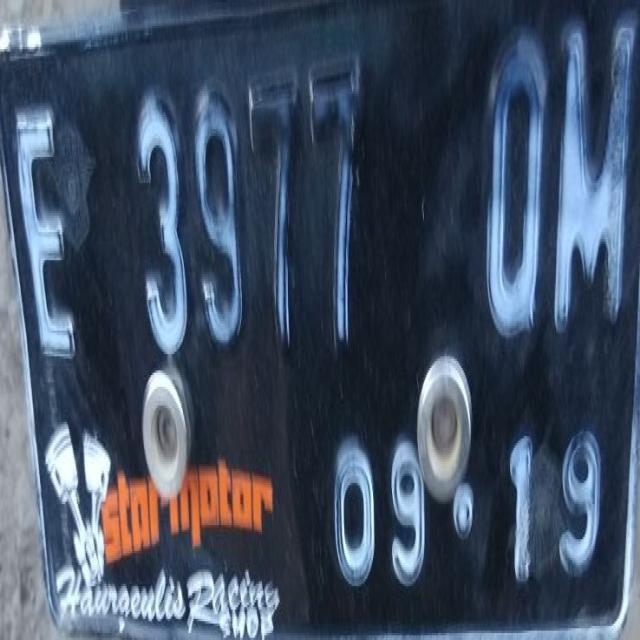license-plat: (1, 5, 638, 640)
